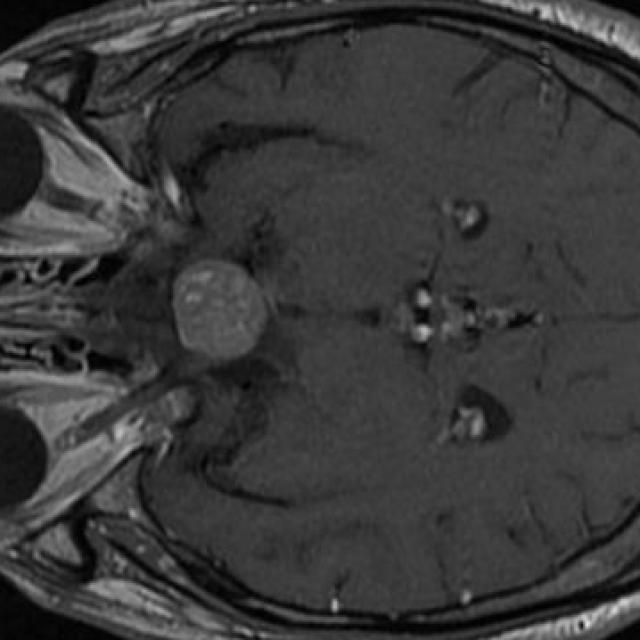pituitary: (173, 260, 271, 367)
